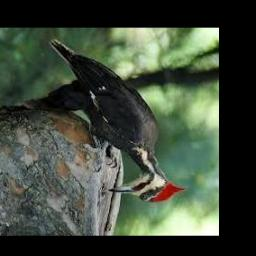Woodpecker: (48, 41, 186, 202)
